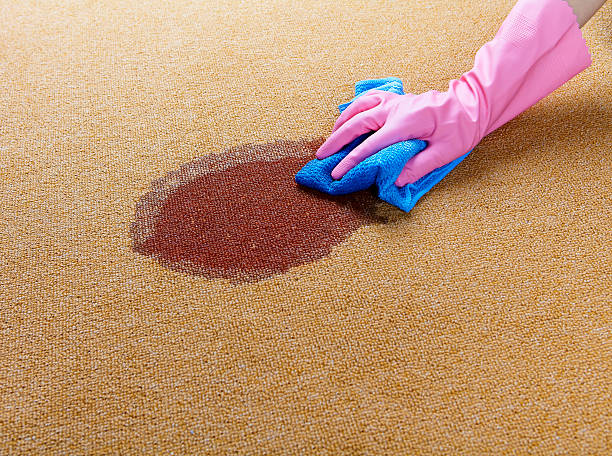blood: (123, 133, 401, 285)
